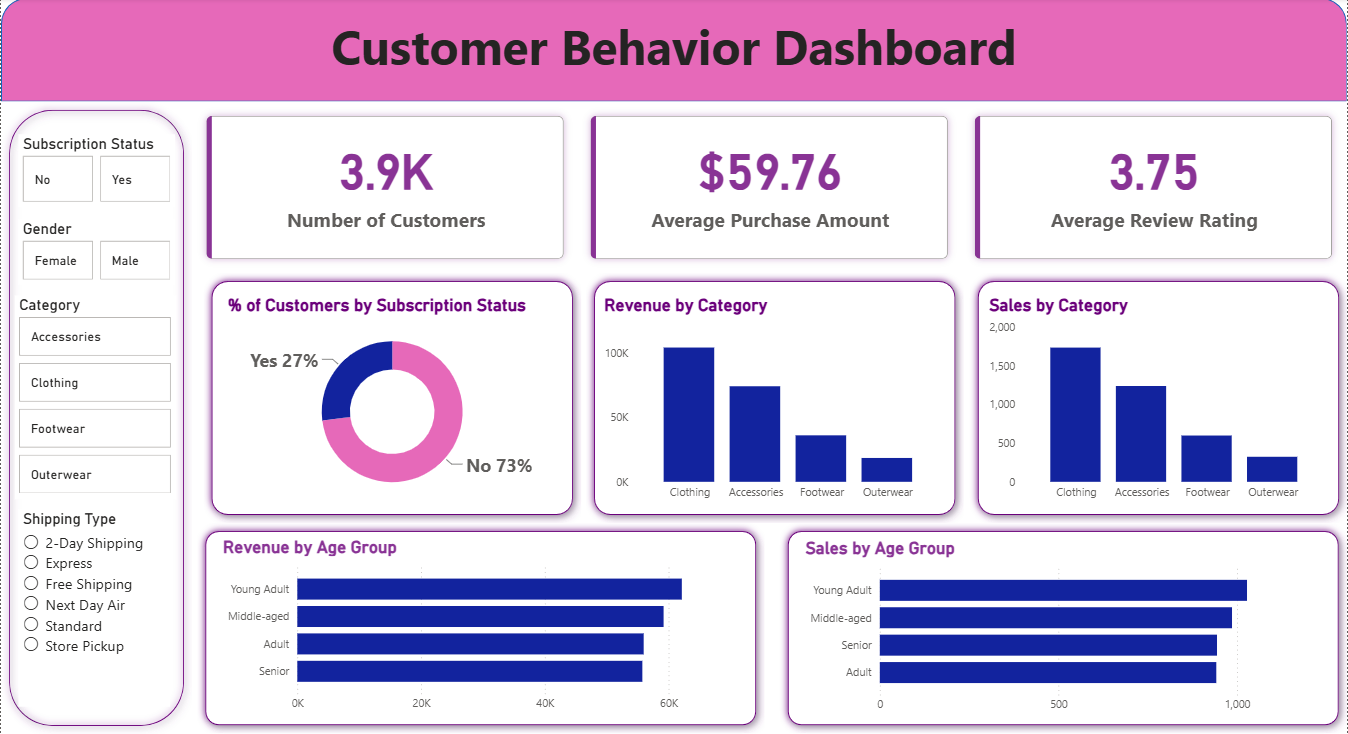

What the dashboard file says about the page in this screenshot:
{"tool":"powerbi","page":{"name":"Page 1","canvas":[1500,820],"ordinal":0},"visuals":[{"type":"cardVisual","fields":{"Data":["public customer.Number of Customers","public customer.Average Purchase Amount","public customer.Average Review Rating"]},"box":[212.9,115.3,1286.5,191.6],"z":2000},{"type":"shape","box":[218.3,585.6,631.7,234.2],"z":2500,"group":"g1"},{"type":"shape","box":[0,0,1499.4,115.3],"z":3000},{"type":"textbox","box":[0,12.4,1499.4,102.9],"z":4000},{"type":"shape","box":[225.4,307,420.5,278.6],"z":5000},{"type":"donutChart","title":"% of Customers by Subscription Status","fields":{"Category":["public customer.subscription_status"],"Y":["CountNonNull(public customer.customer_id)"]},"box":[248.4,331.8,376.2,237.8],"z":6000},{"type":"shape","box":[1078.9,307,420.5,278.6],"z":7000},{"type":"shape","box":[652.1,307,420.5,278.6],"z":8000},{"type":"clusteredColumnChart","title":"Revenue by Category","fields":{"Y":["Sum(public customer.purchase_amount)"],"Category":["public customer.category"]},"box":[667.2,331.8,385.1,237.8],"z":9000},{"type":"clusteredColumnChart","title":"Sales by Category","fields":{"Y":["CountNonNull(public customer.customer_id)"],"Category":["public customer.category"]},"box":[1096.6,331.8,385.1,237.8],"z":10000},{"type":"shape","box":[0,115.3,212.9,704.5],"z":11000},{"type":"advancedSlicerVisual","fields":{"Values":["public customer.subscription_status"]},"box":[19.5,161.5,173.9,85.2],"z":12000},{"type":"advancedSlicerVisual","fields":{"Values":["public customer.gender"]},"box":[19.5,264.4,173.9,85.2],"z":13000},{"type":"advancedSlicerVisual","fields":{"Values":["public customer.category"]},"box":[13.9,357.9,179.7,227],"z":14000},{"type":"listSlicer","fields":{"Values":["public customer.shipping_type"]},"box":[19.5,584.9,168.5,204.7],"z":15000},{"type":"shape","box":[867.7,585.6,631.7,234.2],"z":16000},{"type":"clusteredBarChart","title":"Sales by Age Group","fields":{"Y":["CountNonNull(public customer.customer_id)"],"Category":["public customer.age_group"]},"box":[890.8,601.5,585.6,204.1],"z":17000},{"type":"clusteredBarChart","title":"Revenue by Age Group","fields":{"Y":["Sum(public customer.purchase_amount)"],"Category":["public customer.age_group"]},"box":[241.4,601.6,585.6,204.1],"z":17500,"group":"g1"},{"type":"group","id":"g1","title":"Group 1","box":[218.3,585.6,631.7,234.2],"z":17501}]}

Visuals, with their boxes in screenshot pixels (x1, y1, x2, y2), scaled from the page's 1500x820 canvas onto the 1348x734 screenshot:
cardVisual - public customer.Number of Customers x public customer.Average Purchase Amount: [x1=191, y1=103, x2=1347, y2=275]
shape: [x1=196, y1=524, x2=764, y2=733]
shape: [x1=0, y1=0, x2=1347, y2=103]
textbox: [x1=0, y1=11, x2=1347, y2=103]
shape: [x1=203, y1=275, x2=580, y2=524]
"% of Customers by Subscription Status" donutChart: [x1=223, y1=297, x2=561, y2=510]
shape: [x1=970, y1=275, x2=1347, y2=524]
shape: [x1=586, y1=275, x2=964, y2=524]
"Revenue by Category" clusteredColumnChart: [x1=600, y1=297, x2=946, y2=510]
"Sales by Category" clusteredColumnChart: [x1=985, y1=297, x2=1332, y2=510]
shape: [x1=0, y1=103, x2=191, y2=733]
advancedSlicerVisual - public customer.subscription_status: [x1=18, y1=145, x2=174, y2=221]
advancedSlicerVisual - public customer.gender: [x1=18, y1=237, x2=174, y2=313]
advancedSlicerVisual - public customer.category: [x1=12, y1=320, x2=174, y2=524]
listSlicer - public customer.shipping_type: [x1=18, y1=524, x2=169, y2=707]
shape: [x1=780, y1=524, x2=1347, y2=733]
"Sales by Age Group" clusteredBarChart: [x1=801, y1=538, x2=1327, y2=721]
"Revenue by Age Group" clusteredBarChart: [x1=217, y1=539, x2=743, y2=721]
"Group 1" group: [x1=196, y1=524, x2=764, y2=733]
